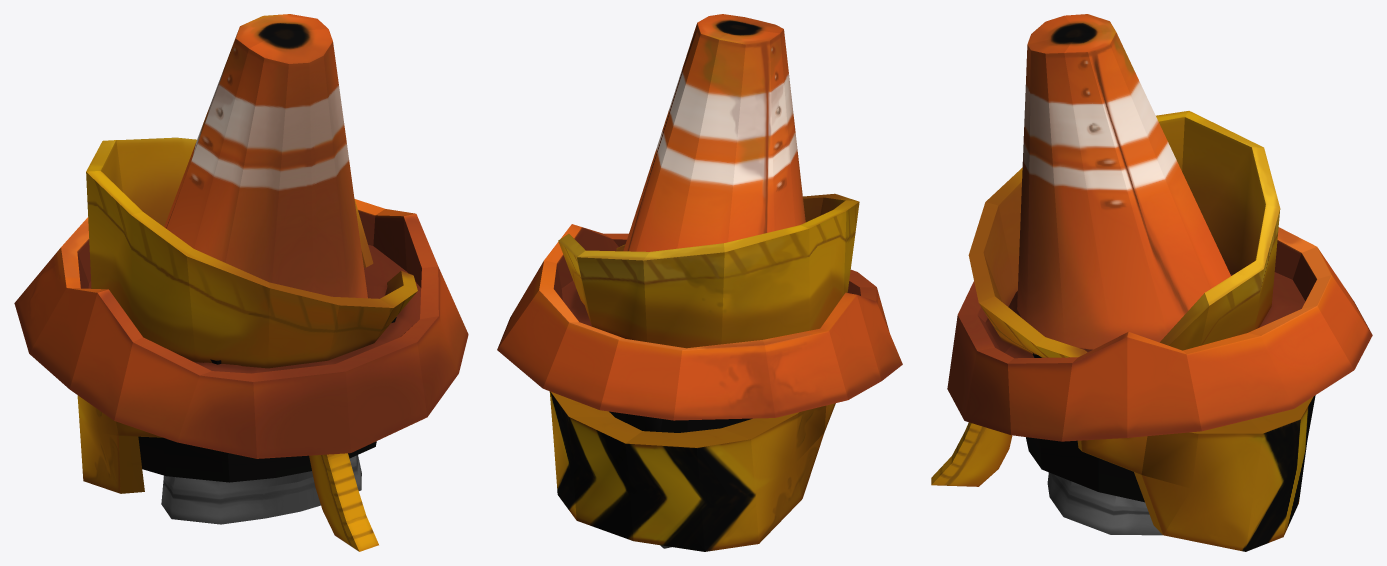
File: dold_head.glb
The picture shows the model from 3 angles, left to right: view 1: azimuth 30°, elevation 25°; view 2: azimuth 150°, elevation 25°; view 3: azimuth 270°, elevation 25°; orthographic projection. The views are drawn at different scales.
Visible parts, largest first — view 1: Object; view 2: Object; view 3: Object.
Boxes of the visible parts, x1,y1,x2,y2 form: Object: (14,14,468,551); Object: (497,14,902,551); Object: (931,14,1372,551).
Bounding box in the file's own units: 1.84 × 2.44 × 1.94.
1 material, 1 textured.
